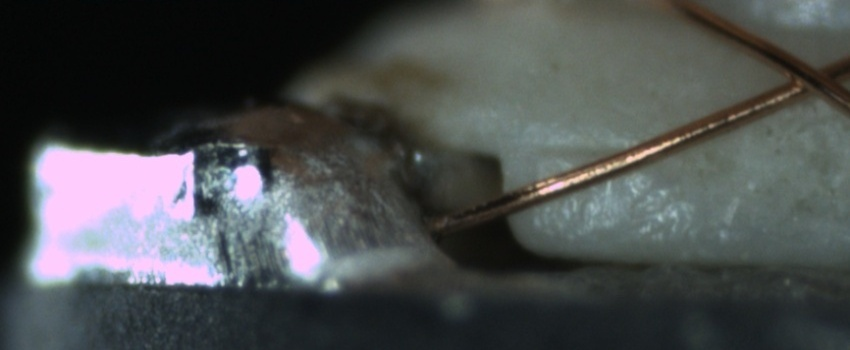CL: (762, 44, 849, 107)
DL: (522, 116, 643, 176)
